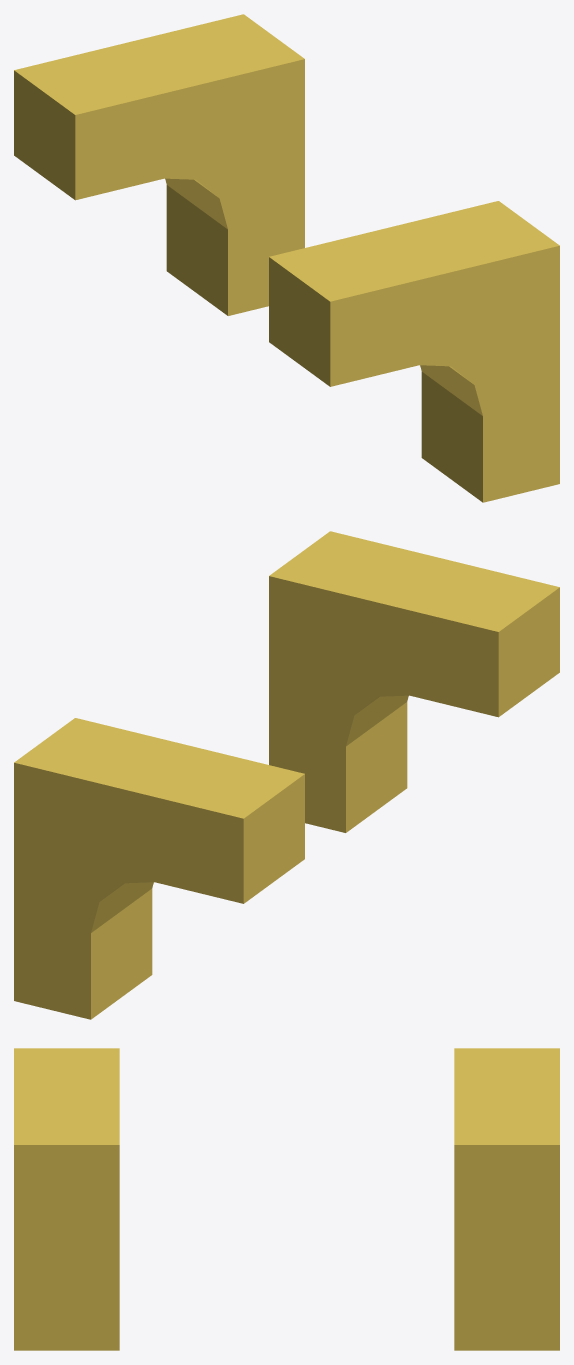
File: 木板右支架.fbx
3 views of the same model, one above another, from view 1: azimuth 30°, elevation 25°; view 2: azimuth 150°, elevation 25°; view 3: azimuth 270°, elevation 25° (orthographic). The views are drawn at different scales.
Visible parts, largest first — view 1: R.2; view 2: R.2; view 3: R.2.
Part boxes in pixels (x1,y1,x2,y2): R.2: [14, 14, 559, 502]; R.2: [14, 531, 559, 1019]; R.2: [14, 1048, 559, 1350].
Size of the model in its own units: 26.02 by 25.79 by 62.02.
